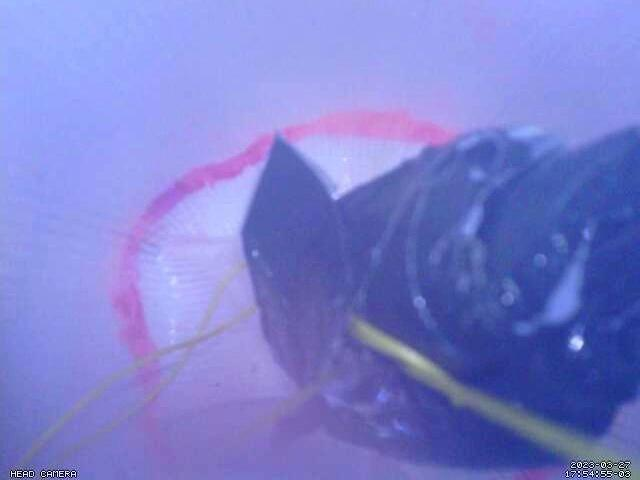head: (109, 107, 461, 480)
